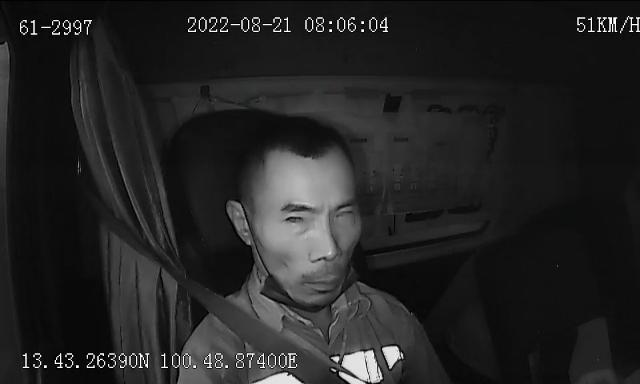SafeDriving: (278, 206, 314, 228), (328, 202, 362, 224)
Seatbelt: (120, 228, 350, 384)
